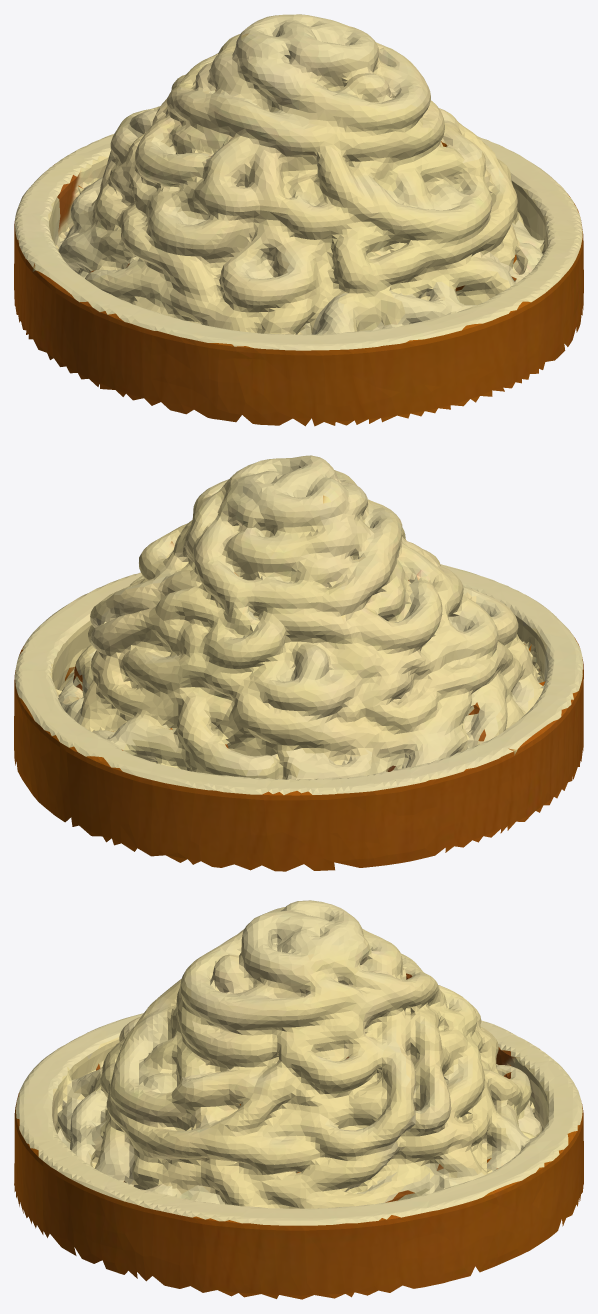
The model's file is garak_st_setting.glb.
3 views of the same model, one above another, from view 1: azimuth 30°, elevation 25°; view 2: azimuth 150°, elevation 25°; view 3: azimuth 270°, elevation 25° (orthographic). The views are drawn at different scales.
Parts seen in each view (by area): view 1: garak_st_setting.obj; view 2: garak_st_setting.obj; view 3: garak_st_setting.obj.
Boxes of the visible parts, <box> form: garak_st_setting.obj: <box>14,14,583,426</box>; garak_st_setting.obj: <box>14,455,583,871</box>; garak_st_setting.obj: <box>14,900,583,1299</box>.
Bounding box in the file's own units: 0.6041 × 0.3259 × 0.6269.
1 material, 1 textured.
